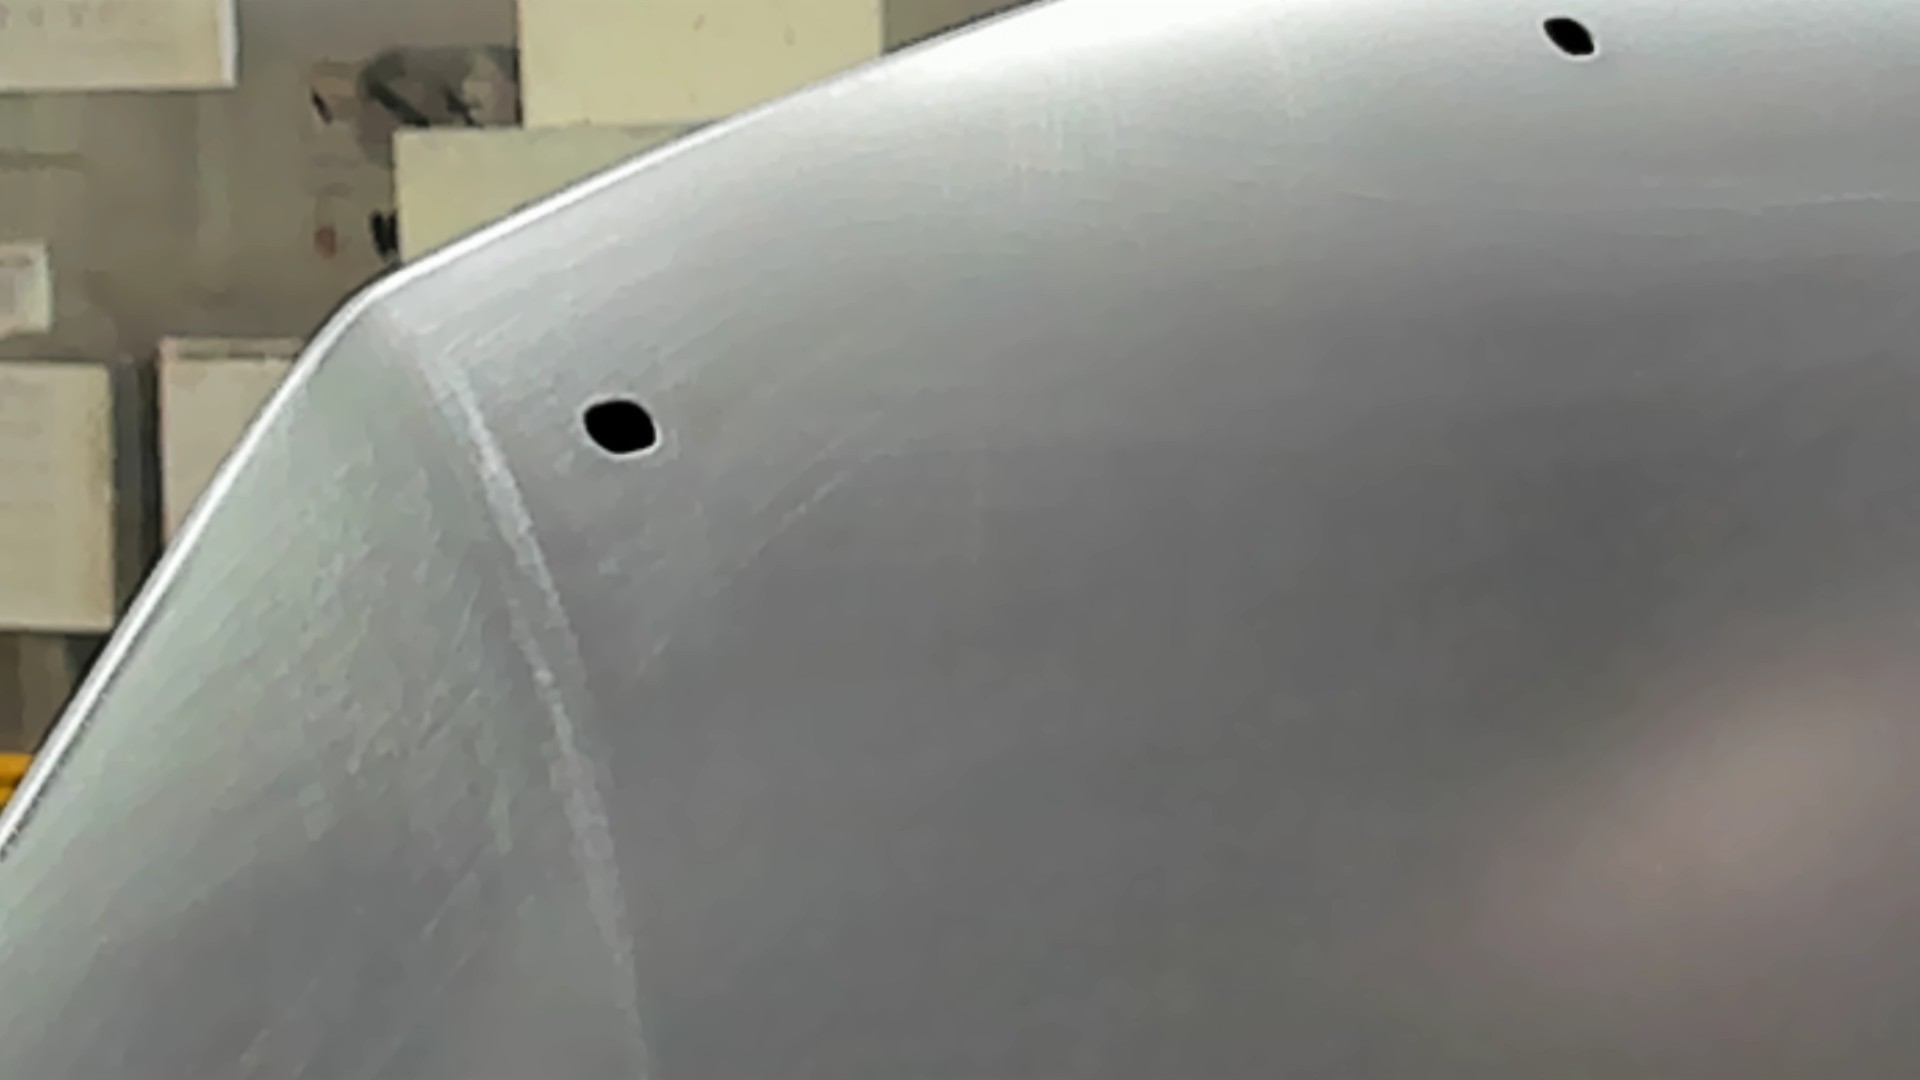amorfo: (571, 388, 669, 463), (1538, 15, 1598, 61)
capo: (735, 160, 1920, 1080)
